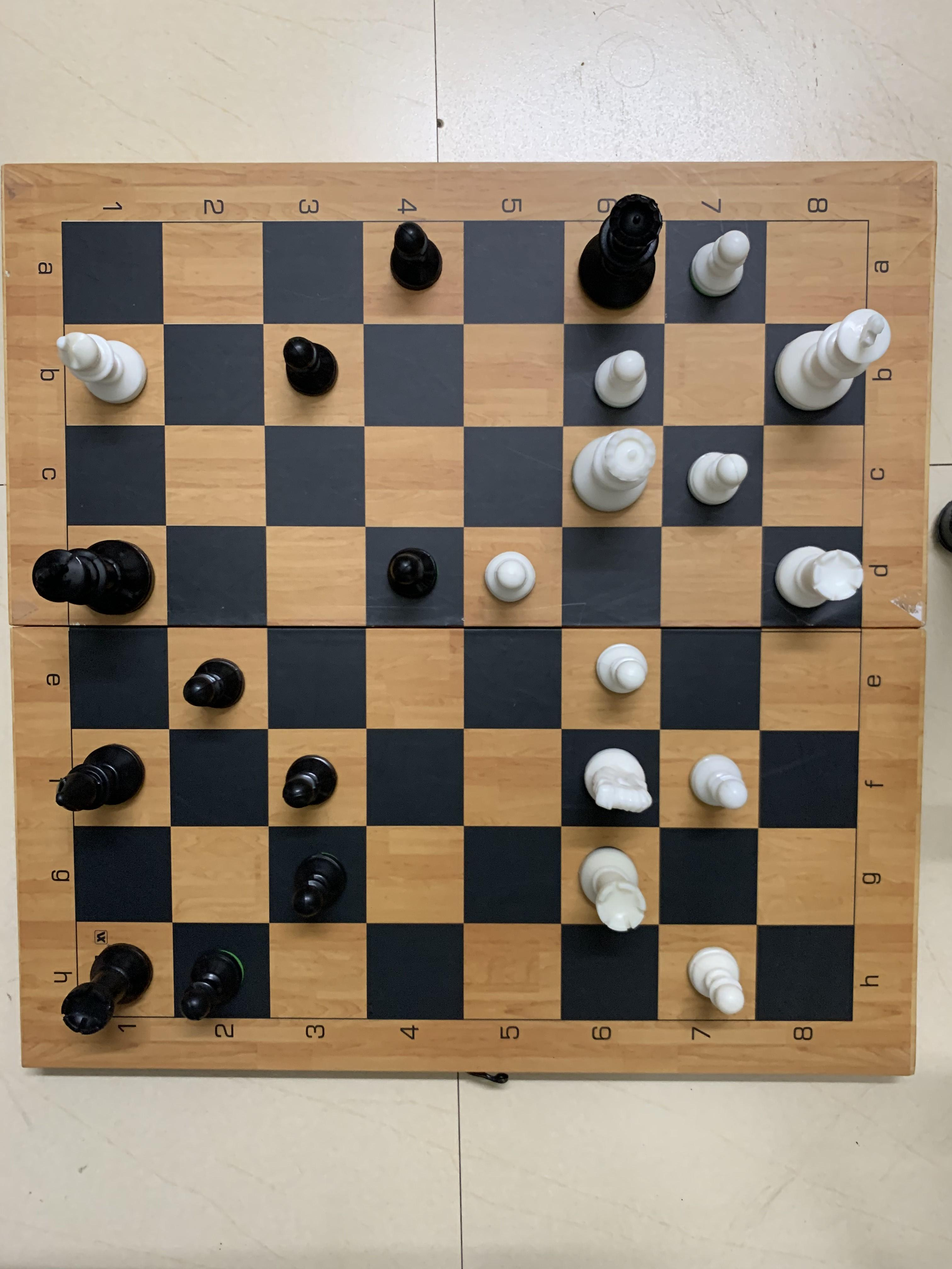black_bishop: (46, 732, 153, 828)
black_king: (22, 531, 169, 630)
black_pawn: (365, 210, 458, 308), (178, 933, 264, 1027), (272, 740, 357, 830), (168, 641, 259, 725), (263, 329, 357, 410), (275, 836, 354, 931), (368, 539, 462, 616)
black_queen: (576, 188, 671, 317)
black_rook: (49, 933, 167, 1047)
white_bishop: (47, 320, 157, 420)
white_king: (778, 302, 897, 420)
white_knight: (568, 738, 662, 827)
white_pawn: (678, 222, 774, 318), (571, 631, 663, 721), (674, 737, 759, 823), (582, 336, 664, 424), (471, 539, 555, 624), (677, 430, 760, 516), (672, 940, 756, 1023), (734, 1000, 738, 1007)
white_queen: (559, 420, 666, 527)
white_rook: (763, 537, 868, 632), (568, 839, 657, 935)
